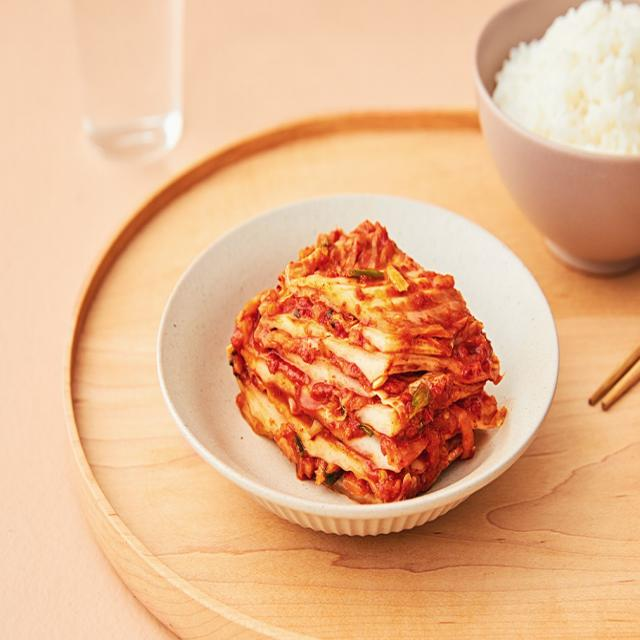kimchi: (223, 212, 510, 506)
